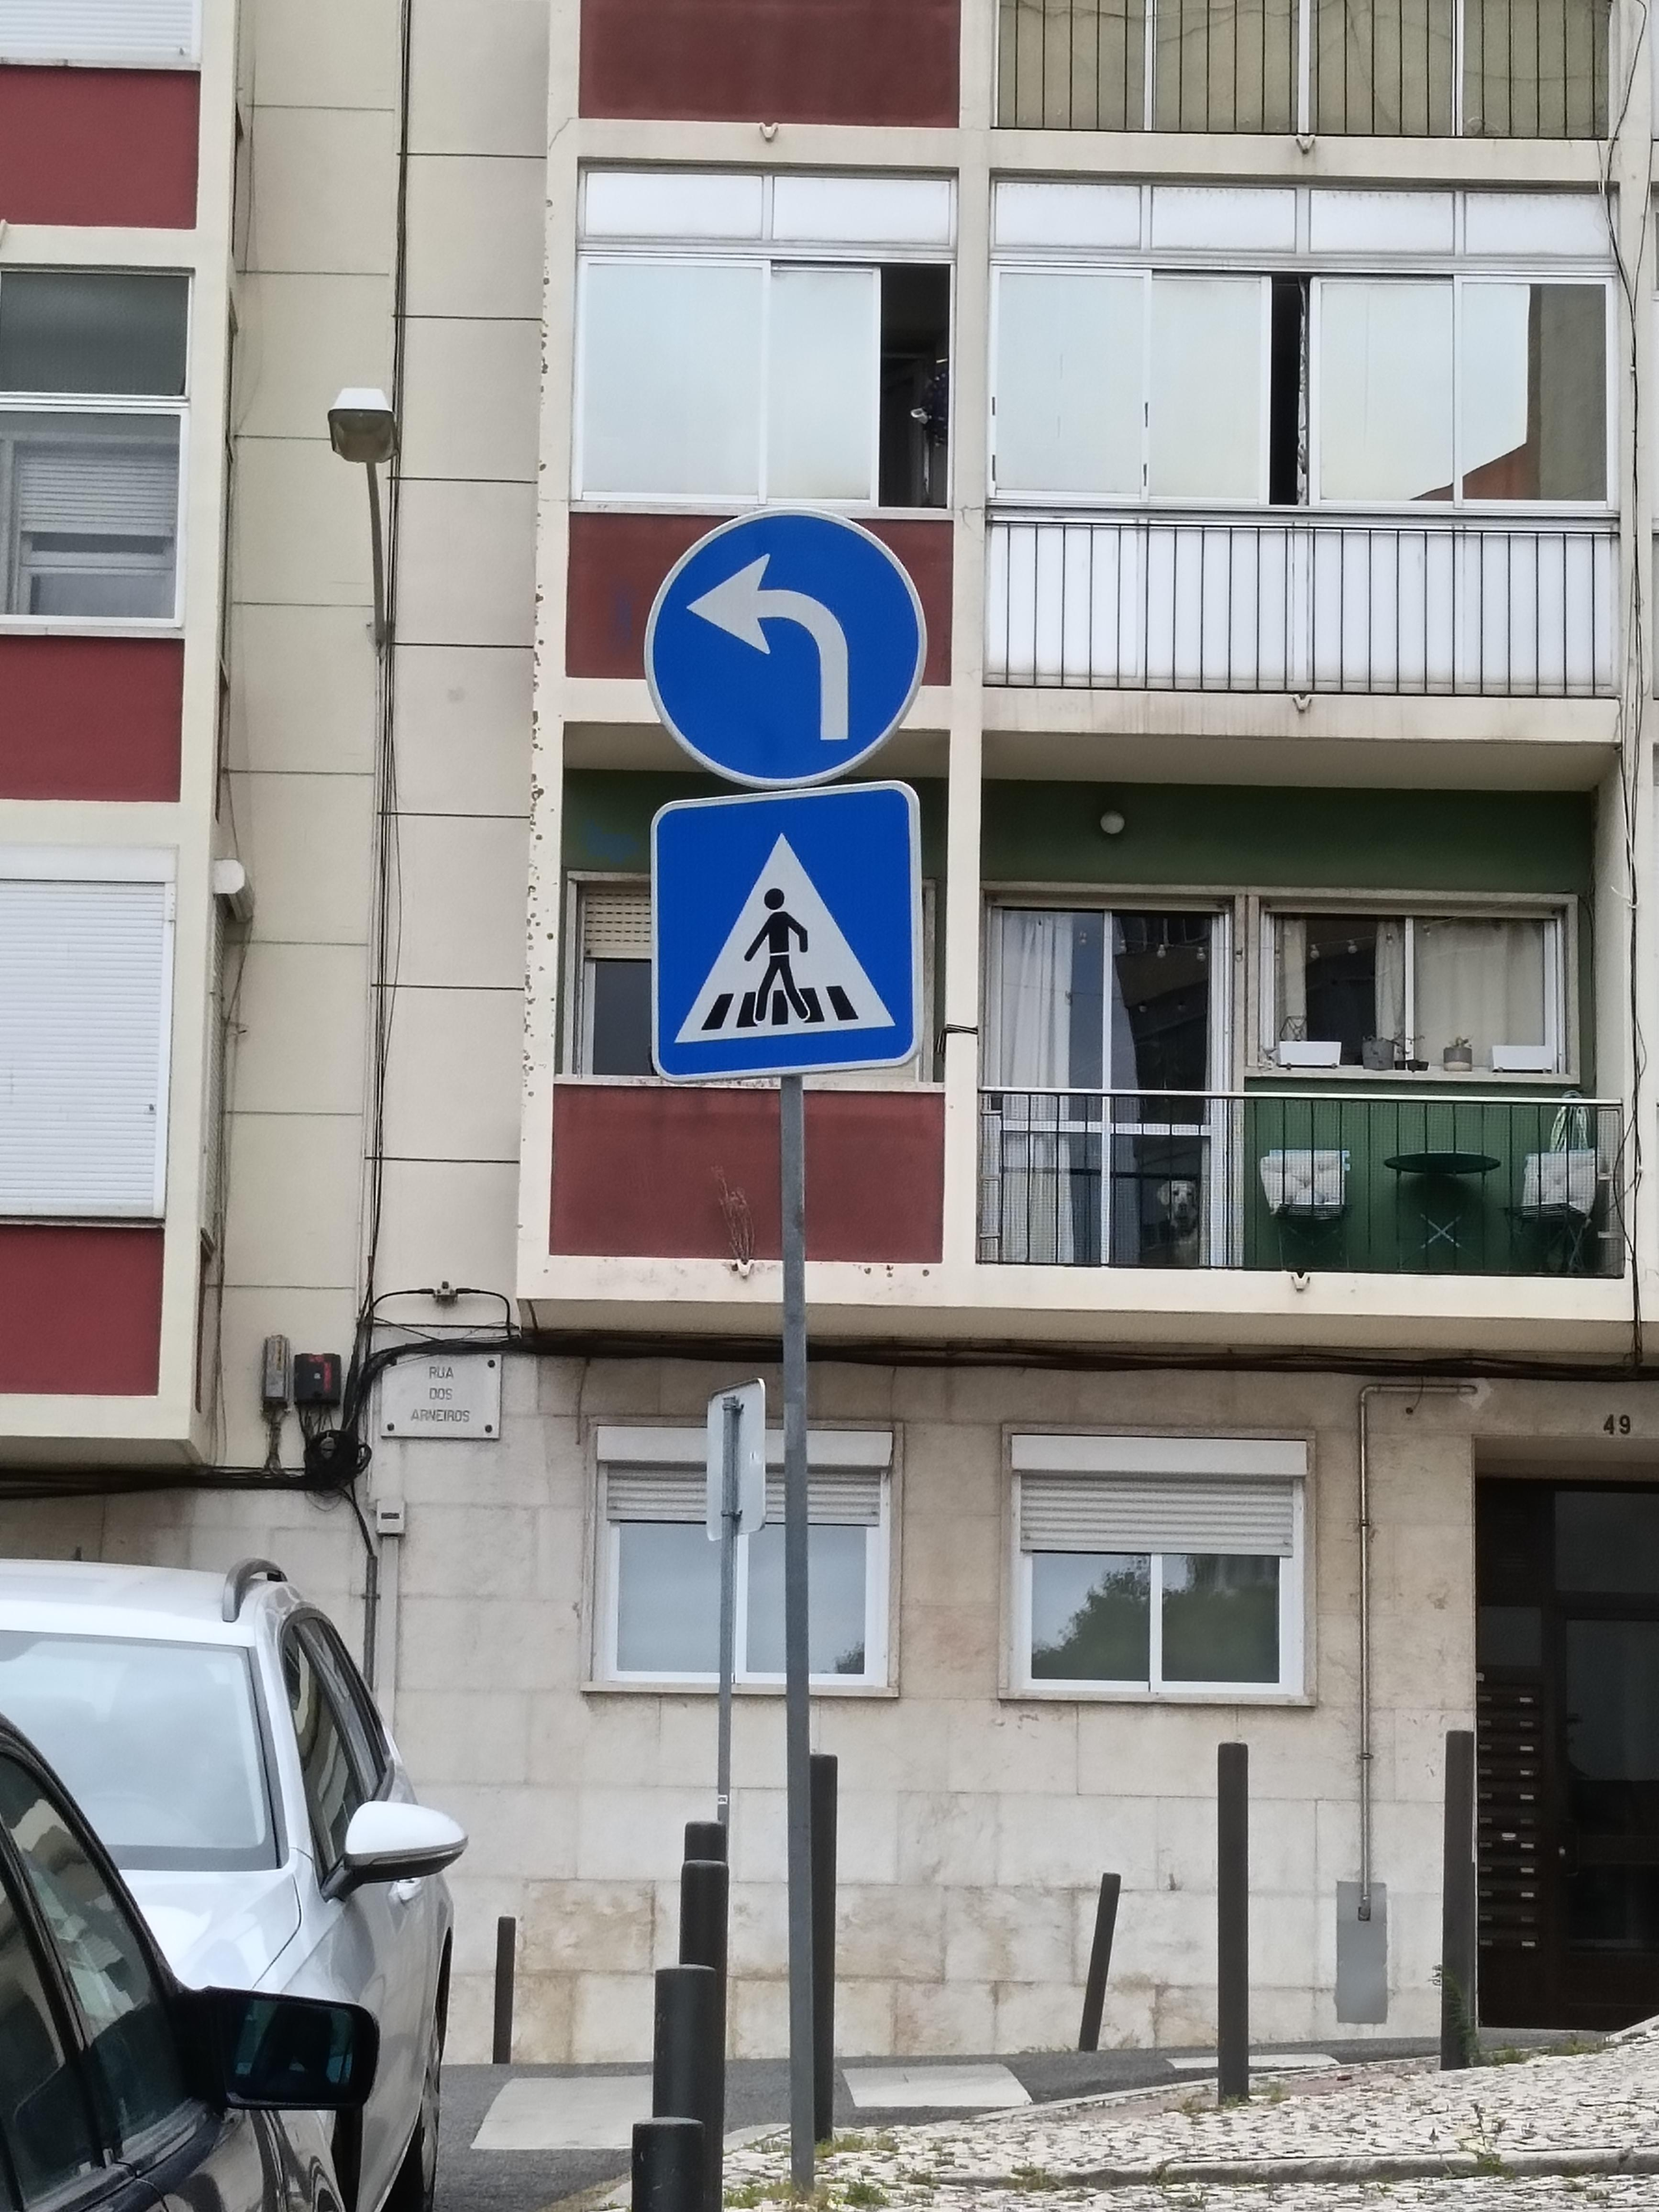passagem para peoes: (647, 780, 938, 1082)
sentido obrigatorio: (650, 493, 932, 775)
